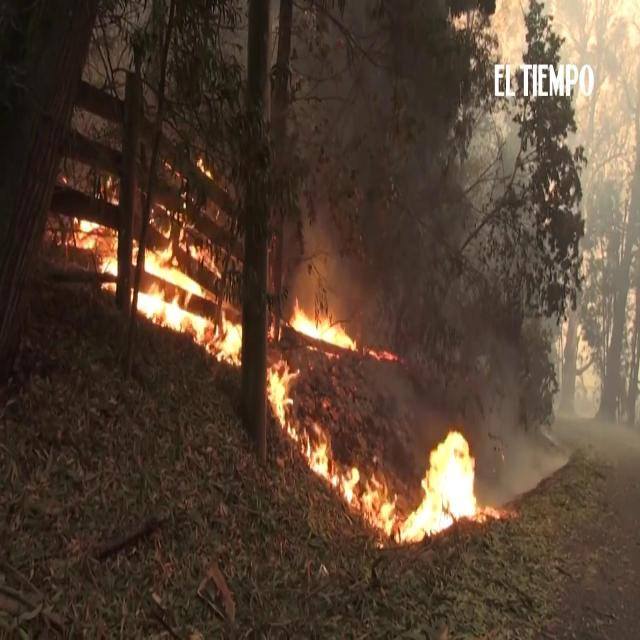Fire: (304, 424, 482, 540), (140, 230, 244, 362), (71, 212, 119, 292), (287, 301, 357, 351), (268, 352, 300, 439), (369, 342, 401, 366), (195, 151, 214, 181), (106, 173, 118, 208)
